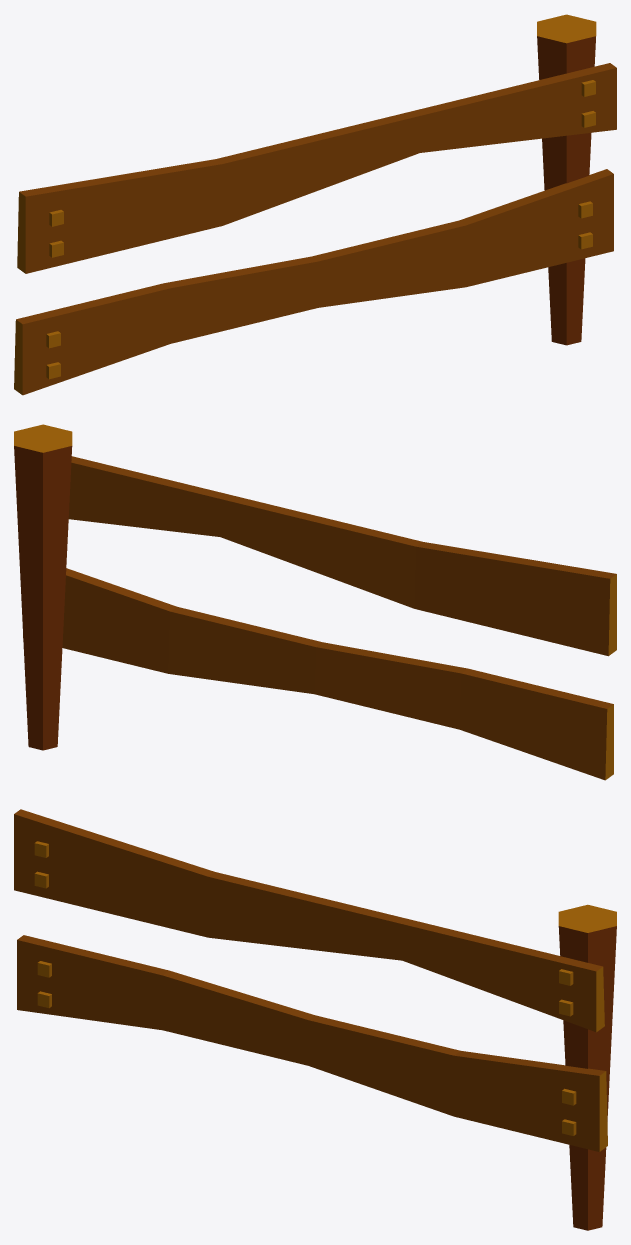
File: Fence_01_3.fbx
The picture shows the model from 3 angles, top to bottom: view 1: azimuth 30°, elevation 25°; view 2: azimuth 150°, elevation 25°; view 3: azimuth 330°, elevation 25°; orthographic projection.
Parts seen in each view (by area): view 1: Fence_3; view 2: Fence_3; view 3: Fence_3.
Part boxes in pixels (bbox=[...]): Fence_3: bbox=[14, 14, 616, 395]; Fence_3: bbox=[14, 424, 616, 780]; Fence_3: bbox=[14, 809, 616, 1230].
Size of the model in its own units: 200 by 100 by 22.46.
Materials: 1 (1 with a texture image).
